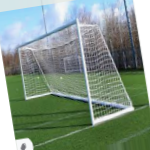goals: (15, 16, 138, 128)
